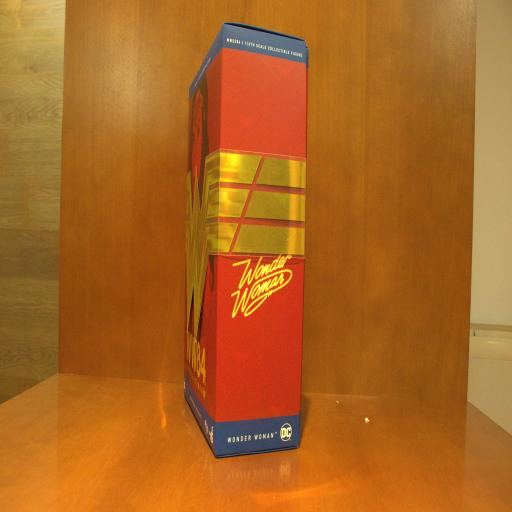WonderWoman: (184, 17, 306, 463)
